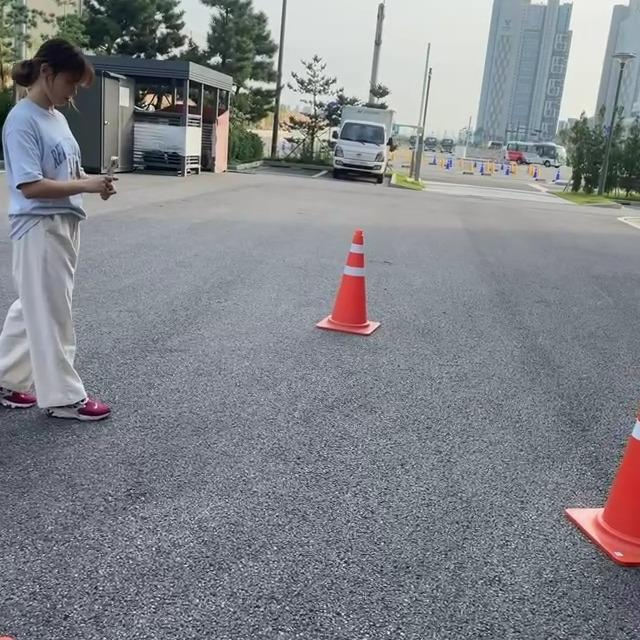fallen_object: (301, 217, 460, 409), (543, 352, 640, 634)
